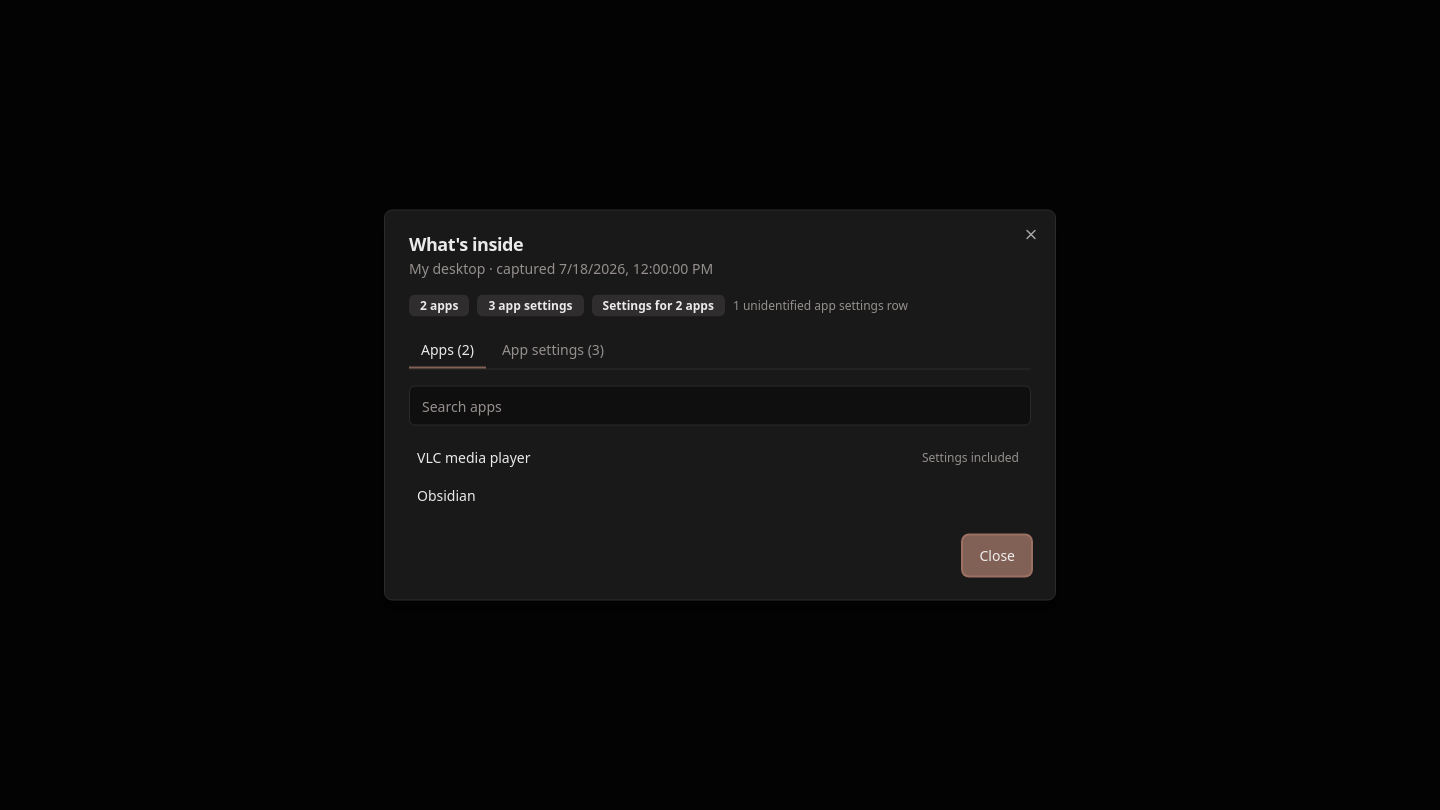
Test case: ProfileContentsModal › labels settings-only apps and leaves unidentified rows unassociated
Click the tab "App settings (3)". click: (553, 350)
box: [490, 332, 616, 368]
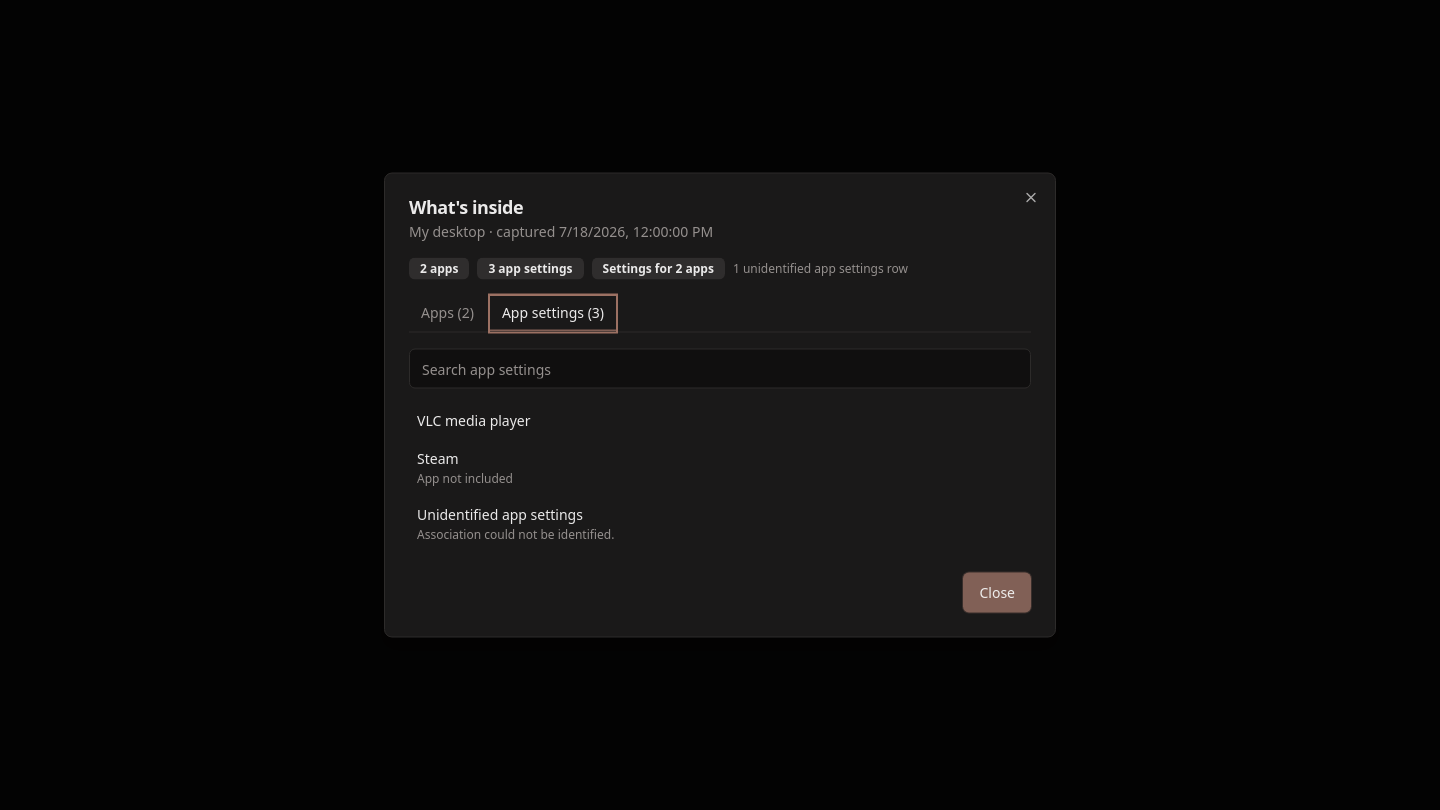
Now the text "App not included" is shown, box [417, 470, 513, 486]
Now the text "Unidentified app settings" is shown, box [417, 504, 583, 524]
Now the text "Association could not be identified." is shown, box [417, 526, 614, 542]
